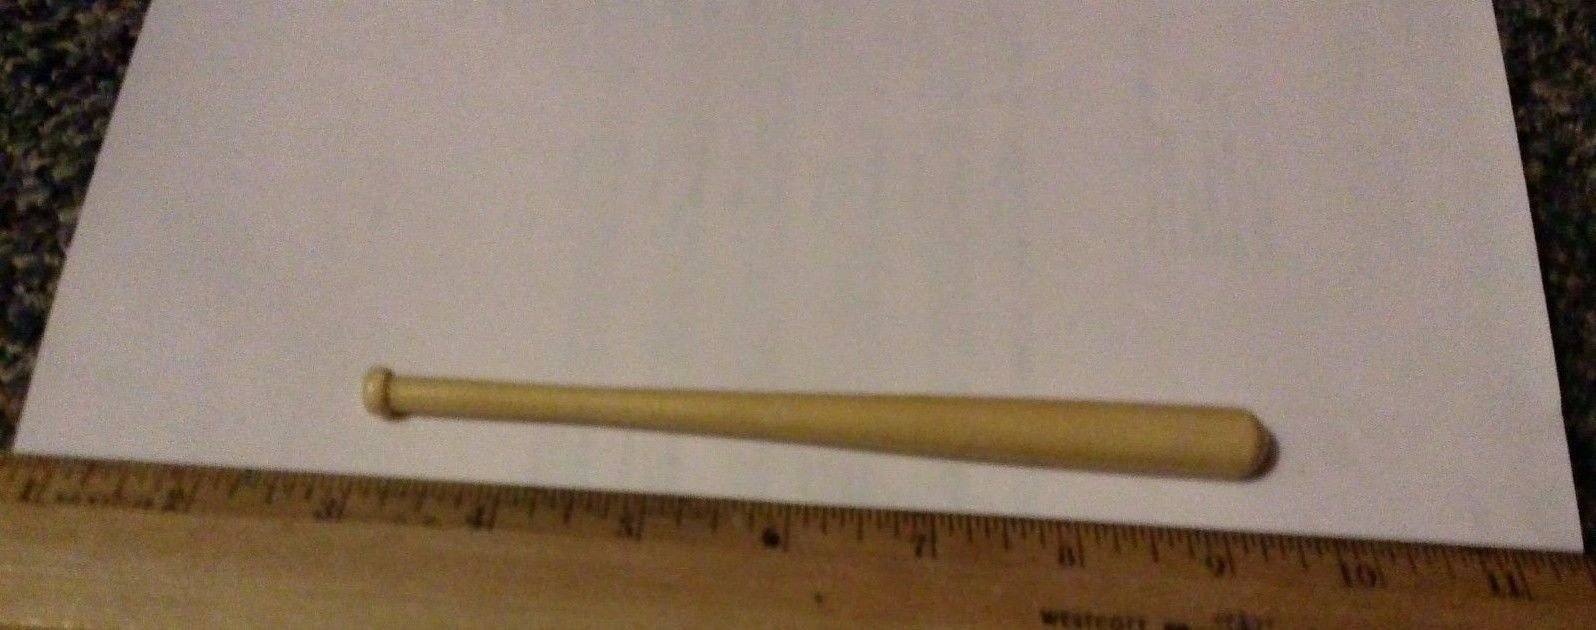bita: (354, 354, 1282, 481)
